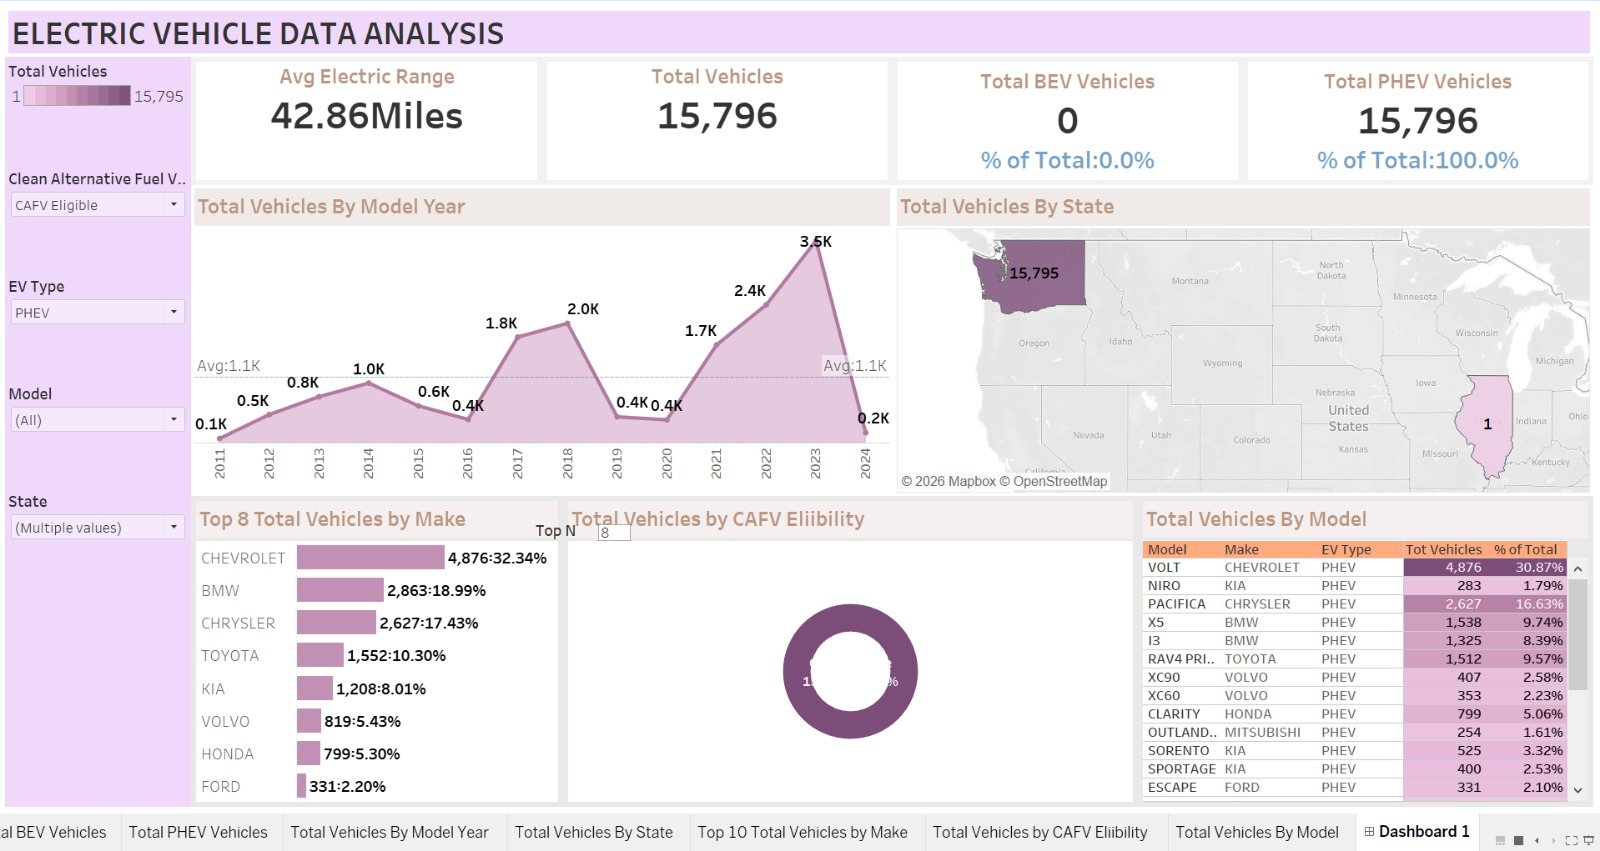

The dashboard page shown, as its layout file describes it:
{"tool":"tableau","page":{"name":"Dashboard 1","canvas":[1000,1000],"units":"permille","ordinal":0},"visuals":[{"type":"title","box":[7.9,19.1,984.3,58.7]},{"type":"legend","title":"Total Vehicles By State","param":"[federated.04u9y5d0gsn2uk17p6tlm0da8m13].[usr:Calculation_1064256949235843072:qk","box":[7.9,78.8,115.2,128.9]},{"type":"worksheet","title":"Avg Electric Range","mark":"Automatic","box":[123,78.8,217.5,367.5]},{"type":"worksheet","title":"Total Vehicles","mark":"Automatic","box":[340.6,78.8,217.5,367.5]},{"type":"worksheet","title":"Total BEV Vehicles","mark":"Automatic","box":[558.1,78.8,217.5,367.5]},{"type":"worksheet","title":"Total PHEV Vehicles","mark":"Automatic","box":[775.6,78.8,216.5,367.5]},{"type":"filter","title":"Total Vehicles By Model Year","param":"[federated.04u9y5d0gsn2uk17p6tlm0da8m13].[none:Clean Alternative Fuel Vehicle (C","box":[7.9,207.6,115.2,128.9]},{"type":"filter","title":"Total Vehicles By State","param":"[federated.04u9y5d0gsn2uk17p6tlm0da8m13].[none:Electric Vehicle Type:nk]","box":[7.9,336.5,115.2,128.9]},{"type":"worksheet","title":"Total Vehicles By Model Year","mark":"Area","rows":["Calculation_1064256949235843072","Calculation_1064256949235843072"],"cols":["Model Year"],"box":[123.2,445.4,435.1,267.8]},{"type":"worksheet","title":"Total Vehicles By State","mark":"Multipolygon","box":[558.2,445.4,433.9,267.8]},{"type":"filter","title":"Total Vehicles By State","param":"[federated.04u9y5d0gsn2uk17p6tlm0da8m13].[none:Model:nk]","box":[7.9,465.4,115.2,128.9]},{"type":"filter","title":"Total Vehicles By State","param":"[federated.04u9y5d0gsn2uk17p6tlm0da8m13].[none:State:nk]","box":[7.9,594.3,115.2,128.9]},{"type":"parameter","param":"[Parameters].[Parameter 1]","box":[335.2,641.2,60.8,49.2]},{"type":"worksheet","title":"Top 10 Total Vehicles by Make","mark":"Automatic","rows":["Make"],"cols":["Calculation_1064256949235843072"],"box":[123.2,713.1,418.7,267.8]},{"type":"worksheet","title":"Total Vehicles by CAFV Eliibility","mark":"Pie","rows":["Calculation_1064256949284442119","Calculation_1064256949284442119"],"box":[541.9,713.1,9.8,267.8]},{"type":"worksheet","title":"Total Vehicles By Model","mark":"Square","rows":["Model","Make","Electric Vehicle Type"],"box":[551.7,713.1,440.4,267.8]},{"type":"blank","box":[7.9,723.1,115.2,128.9]},{"type":"blank","box":[7.9,852,115.2,128.9]}]}

Visuals, with their boxes on the dashboard's canvas, which has no fixed pixel size, in thousandths of its width and height (x1, y1, x2, y2). These are canvas units, not pixel positions in the 1600x851 screenshot, which may show the page scaled, cropped or inside an application window:
title: 8:19:992:78
"Total Vehicles By State" legend: 8:79:123:208
"Avg Electric Range" worksheet: 123:79:340:446
"Total Vehicles" worksheet: 341:79:558:446
"Total BEV Vehicles" worksheet: 558:79:776:446
"Total PHEV Vehicles" worksheet: 776:79:992:446
"Total Vehicles By Model Year" filter: 8:208:123:336
"Total Vehicles By State" filter: 8:336:123:465
"Total Vehicles By Model Year" worksheet (Area marks): 123:445:558:713
"Total Vehicles By State" worksheet (Multipolygon marks): 558:445:992:713
"Total Vehicles By State" filter: 8:465:123:594
"Total Vehicles By State" filter: 8:594:123:723
parameter: 335:641:396:690
"Top 10 Total Vehicles by Make" worksheet: 123:713:542:981
"Total Vehicles by CAFV Eliibility" worksheet (Pie marks): 542:713:552:981
"Total Vehicles By Model" worksheet (Square marks): 552:713:992:981
blank: 8:723:123:852
blank: 8:852:123:981
